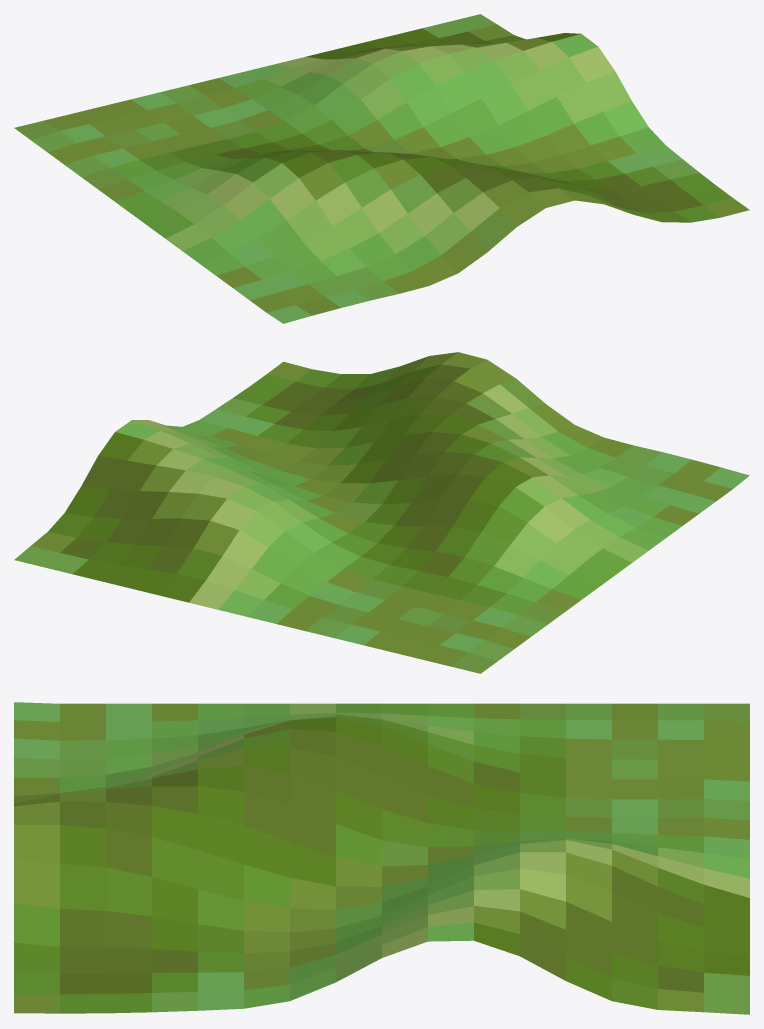
The model's file is hills6.obj.
3 views of the same model, one above another, from view 1: azimuth 30°, elevation 25°; view 2: azimuth 150°, elevation 25°; view 3: azimuth 270°, elevation 25° (orthographic). The views are drawn at different scales.
Visible parts, largest first — view 1: hills6; view 2: hills6; view 3: hills6.
Boxes of the visible parts, x1,y1,x2,y2 form: hills6: (14, 14, 749, 323); hills6: (14, 352, 749, 673); hills6: (14, 702, 749, 1014).
Size of the model in its own units: 1 by 0.1156 by 1.
1 material, 1 textured.
